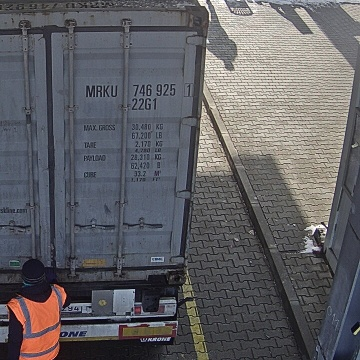serial_id: (86, 84, 191, 97)
